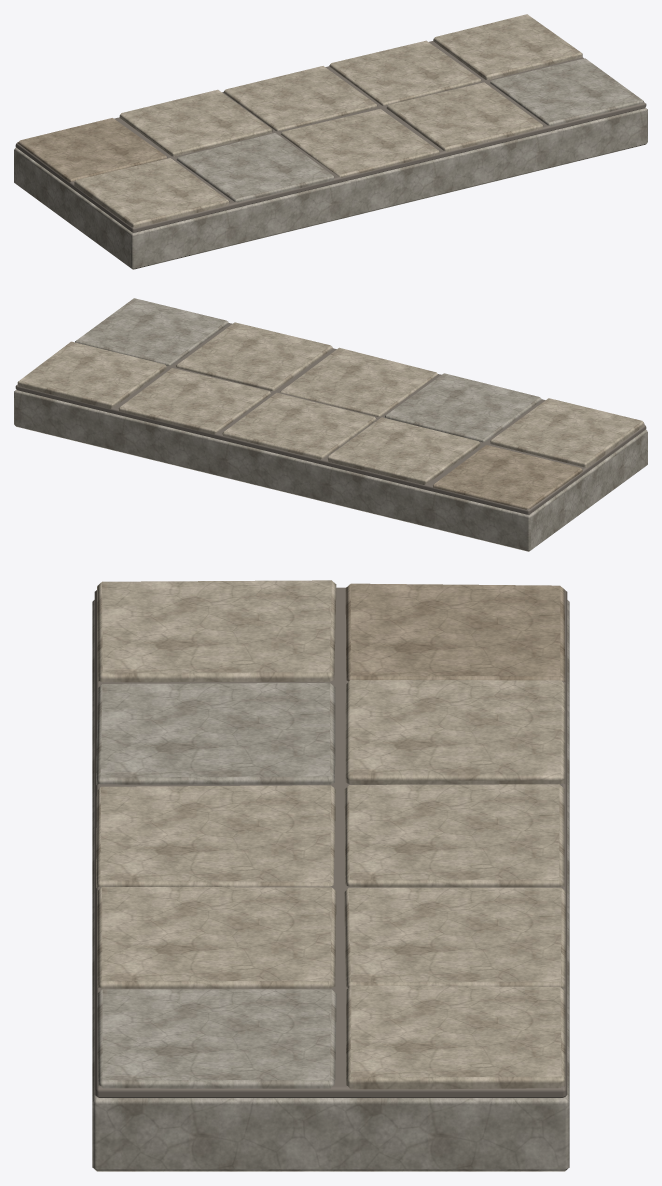
File: Stone_Slab_5m.glb
The picture shows the model from 3 angles, top to bottom: view 1: azimuth 30°, elevation 25°; view 2: azimuth 150°, elevation 25°; view 3: azimuth 270°, elevation 25°; orthographic projection. The views are drawn at different scales.
Visible parts, largest first — view 1: Stone_Slab_5m; view 2: Stone_Slab_5m; view 3: Stone_Slab_5m.
Part boxes in pixels (x1,y1,x2,y2): Stone_Slab_5m: (14, 14, 647, 269); Stone_Slab_5m: (14, 298, 647, 551); Stone_Slab_5m: (92, 580, 569, 1171).
Size of the model in its own units: 5 by 0.4298 by 2.
Materials: 4 (3 with a texture image).
